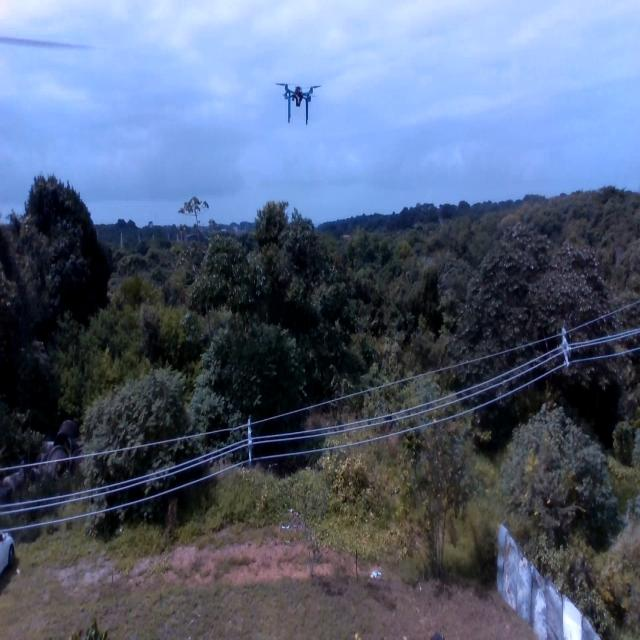-uav-: (272, 66, 326, 130)
